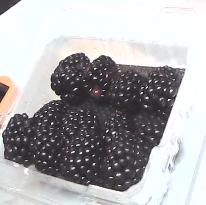berry: (104, 132, 149, 192), (138, 66, 183, 121), (61, 129, 105, 185), (51, 52, 91, 105), (31, 120, 67, 178), (81, 55, 120, 103), (3, 113, 36, 169), (106, 69, 145, 114), (133, 110, 166, 156), (32, 100, 71, 133), (63, 108, 98, 140), (104, 108, 132, 138)
